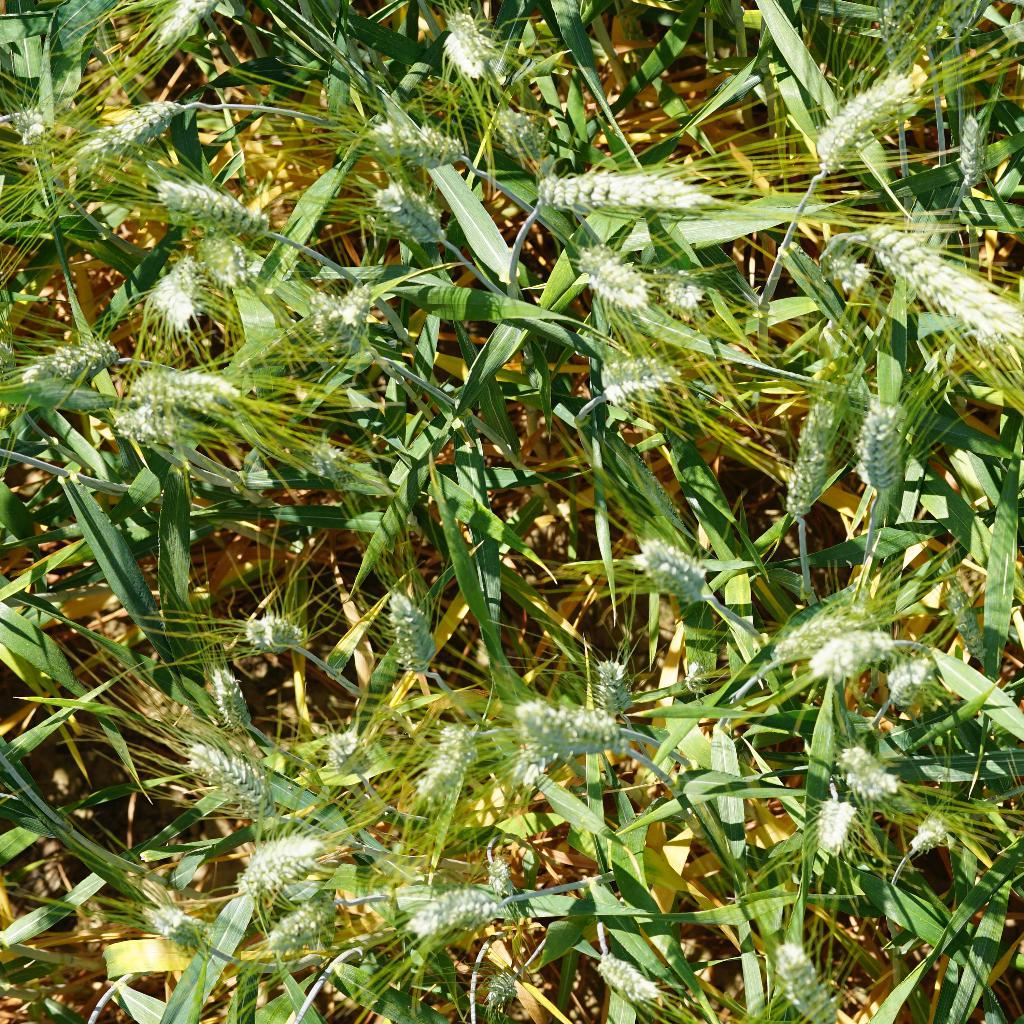0-0: (851, 215, 1024, 352), (803, 49, 929, 159), (66, 78, 213, 168), (526, 161, 722, 224), (777, 372, 847, 531), (174, 735, 287, 829), (127, 174, 277, 243), (220, 821, 339, 903), (768, 594, 881, 676), (626, 526, 727, 616), (843, 391, 914, 518), (397, 714, 489, 810), (504, 728, 633, 795), (511, 692, 631, 762), (373, 574, 446, 686), (133, 0, 269, 58), (396, 870, 501, 945), (795, 617, 900, 690), (362, 175, 460, 251), (566, 239, 659, 319), (123, 355, 242, 417), (591, 347, 699, 414), (361, 111, 470, 175), (768, 941, 848, 1024), (269, 890, 358, 964), (223, 606, 328, 668), (825, 740, 918, 808), (296, 283, 378, 357), (867, 649, 955, 717), (936, 571, 997, 668), (19, 328, 118, 385), (176, 219, 257, 287), (941, 105, 1000, 198), (582, 946, 665, 1012), (485, 101, 560, 173), (145, 256, 208, 339), (438, 6, 504, 84), (144, 899, 223, 963), (579, 644, 643, 721), (314, 720, 384, 788), (646, 262, 716, 329), (3, 85, 59, 164), (792, 788, 860, 852), (201, 661, 261, 732), (814, 238, 886, 296), (900, 804, 967, 859), (305, 438, 371, 493), (112, 402, 175, 447), (479, 967, 524, 1019), (484, 850, 518, 901), (680, 656, 713, 698)
